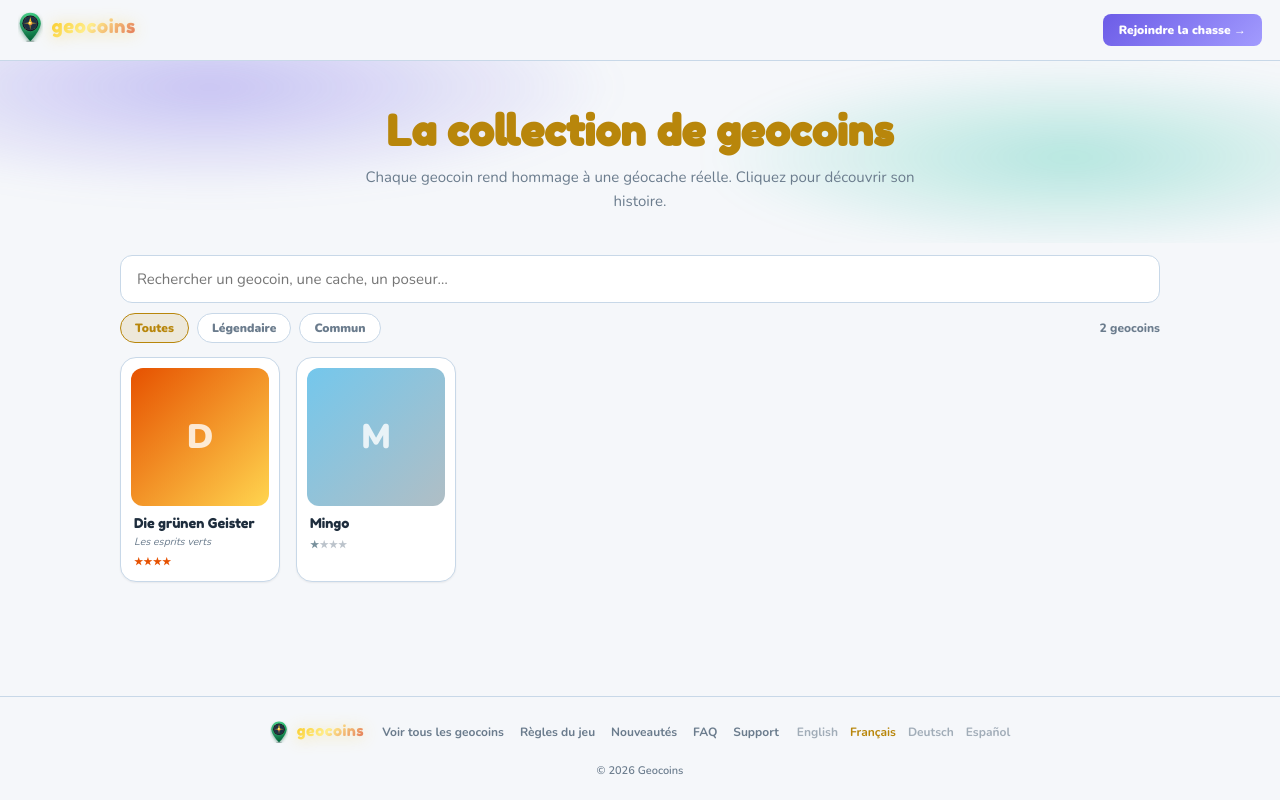
Test case: GeocoinsGallery › cherche aussi par code GC et par poseur, pas seulement par titre
Expected: the text "Mingo" is shown, top-left (310, 515), bottom-right (349, 531)
Type "GC30" into the search field at (640, 279), box top-left (120, 255), bottom-right (1160, 303)
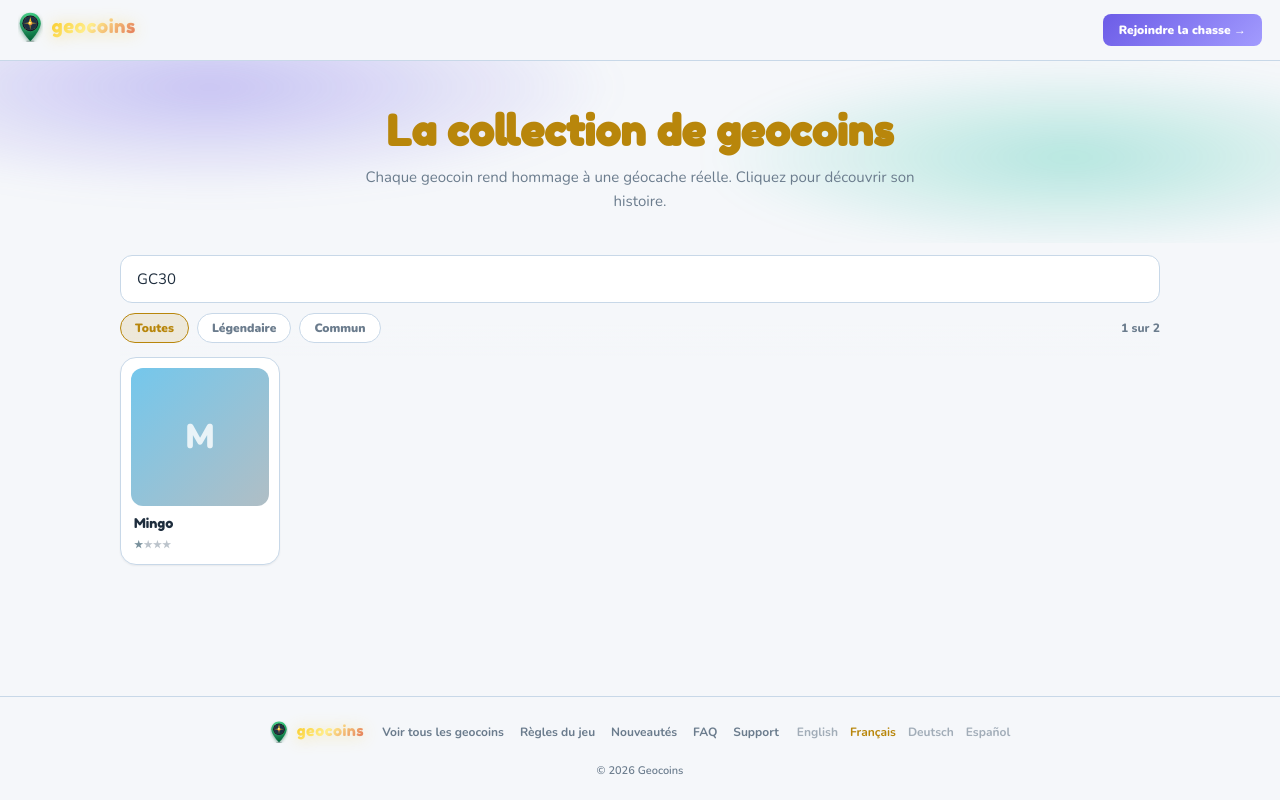
Expected: the text "Mingo" is shown, top-left (134, 515), bottom-right (173, 531)
Expected: the link "Die grünen Geister" is gone
Replace the text in the search field with "die helden" at (640, 279), box top-left (120, 255), bottom-right (1160, 303)
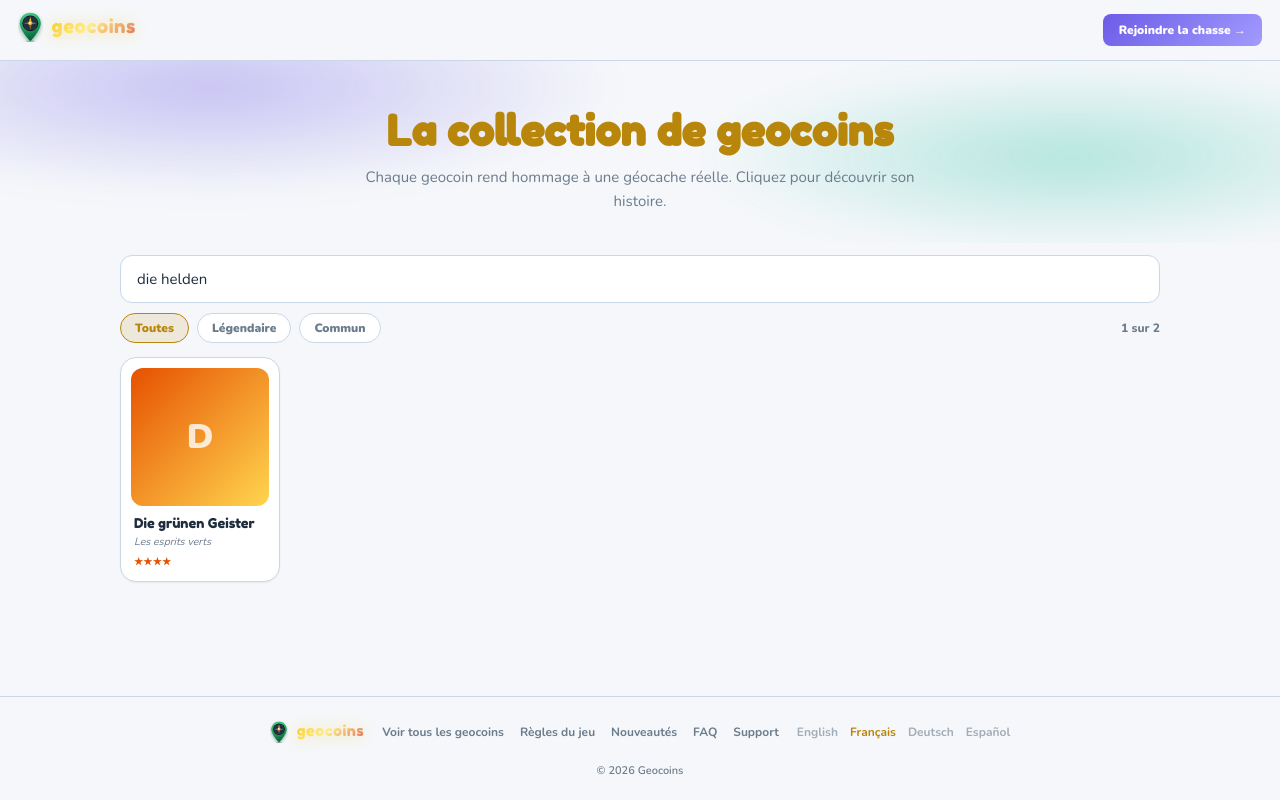
Expected: the text "Die grünen Geister" is shown, top-left (134, 515), bottom-right (266, 532)
Expected: the link "Mingo" is gone
